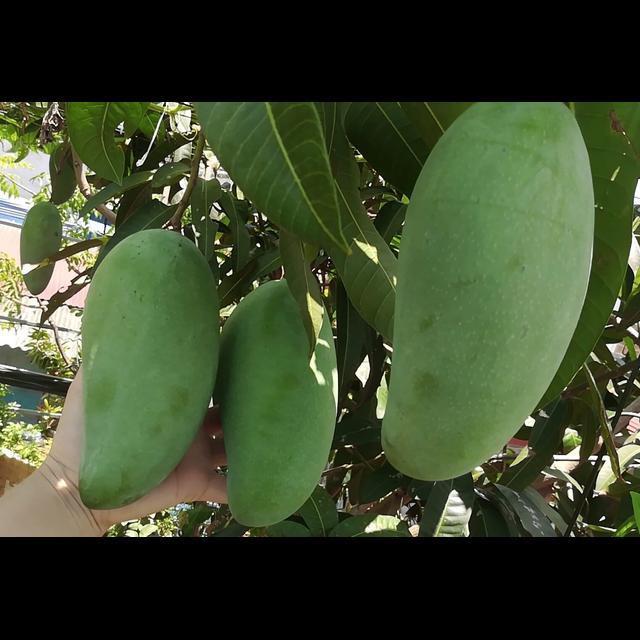xoai: (381, 103, 595, 482), (79, 230, 218, 510), (215, 277, 338, 525)
